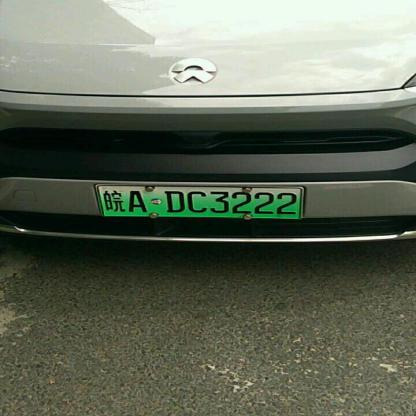lp: (96, 185, 302, 218)
